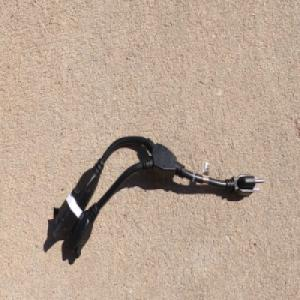Wire: (51, 133, 265, 259)
